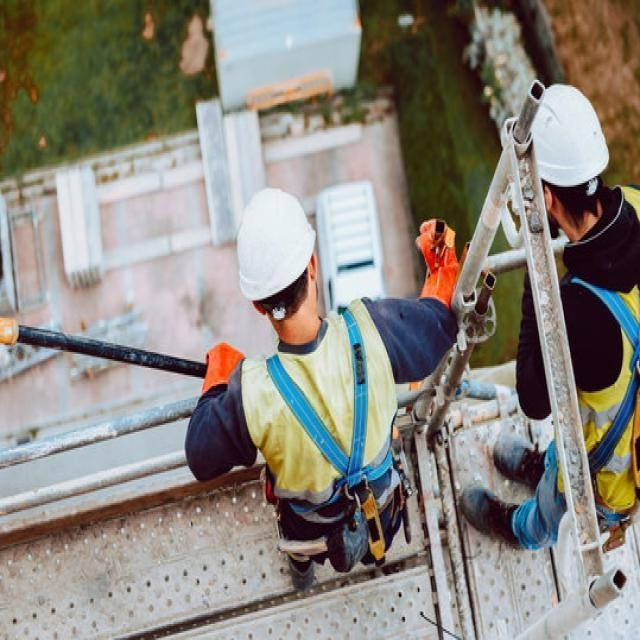Arnes_seguridad: (260, 299, 400, 566), (570, 239, 640, 534)
